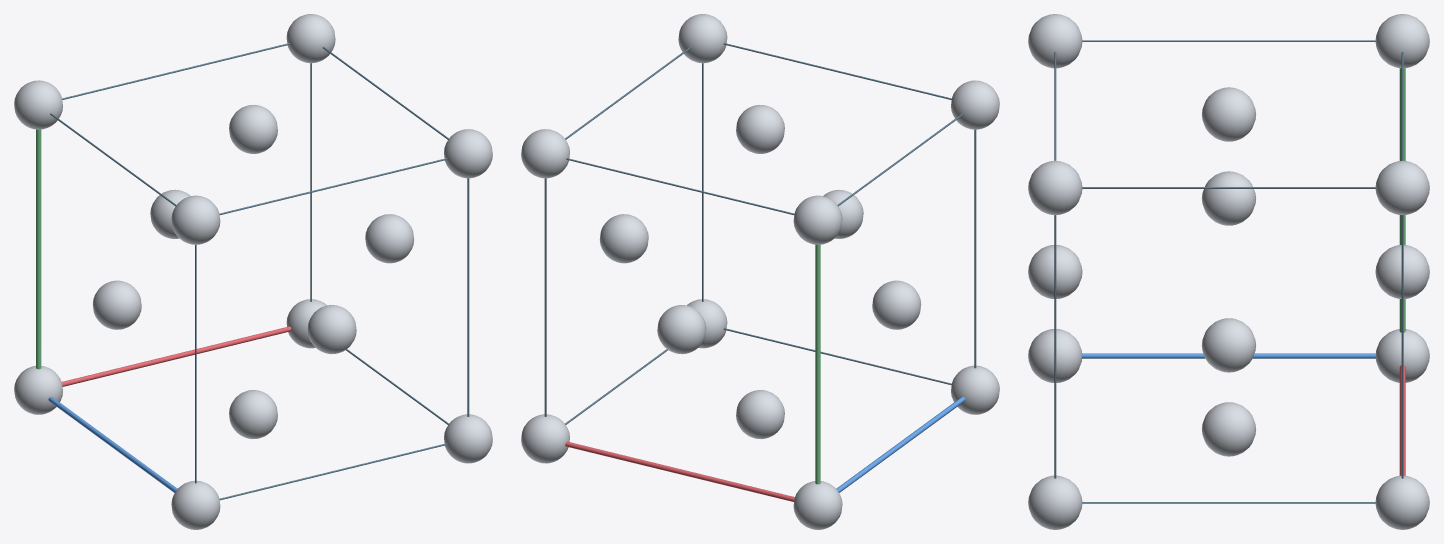
The model's file is nguyen-to-ag.glb.
3 renders of one model, left to right at view 1: azimuth 30°, elevation 25°; view 2: azimuth 150°, elevation 25°; view 3: azimuth 270°, elevation 25°, orthographic. The views are drawn at different scales.
Parts seen in each view (by area): view 1: Ag · Ag · 1 (×14), Ô mạng và các trục a, b, c; view 2: Ag · Ag · 1 (×14), Ô mạng và các trục a, b, c; view 3: Ag · Ag · 1 (×14), Ô mạng và các trục a, b, c.
Boxes of the visible parts, bbox=[...] form: Ag · Ag · 1 (×14): bbox=[14, 14, 492, 529]; Ô mạng và các trục a, b, c: bbox=[36, 43, 469, 500]; Ag · Ag · 1 (×14): bbox=[521, 14, 999, 529]; Ô mạng và các trục a, b, c: bbox=[544, 43, 976, 501]; Ag · Ag · 1 (×14): bbox=[1028, 14, 1429, 529]; Ô mạng và các trục a, b, c: bbox=[1054, 40, 1405, 503].
Size of the model in its own units: 4.73 by 4.73 by 4.73.
